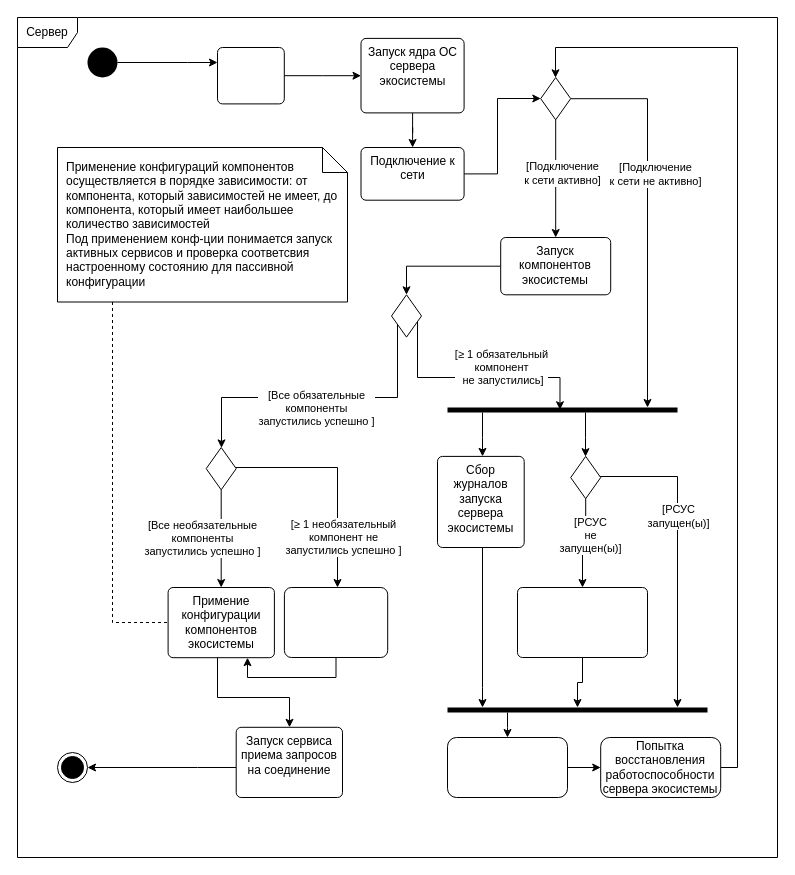
Image size: 795x875. Some labels were removed from this diagram. Here are the shapes that lost their labels. From the top down, the box of each, then its label:
(216, 46, 284, 104): Запуск АО сервера
(283, 586, 388, 658): Перевод сервера в режим аварийной работы
(516, 586, 648, 658): Запуск резервных способов управления сервером (РСУС)
(446, 736, 568, 798): Ожидание подключение администратора через РСУС
